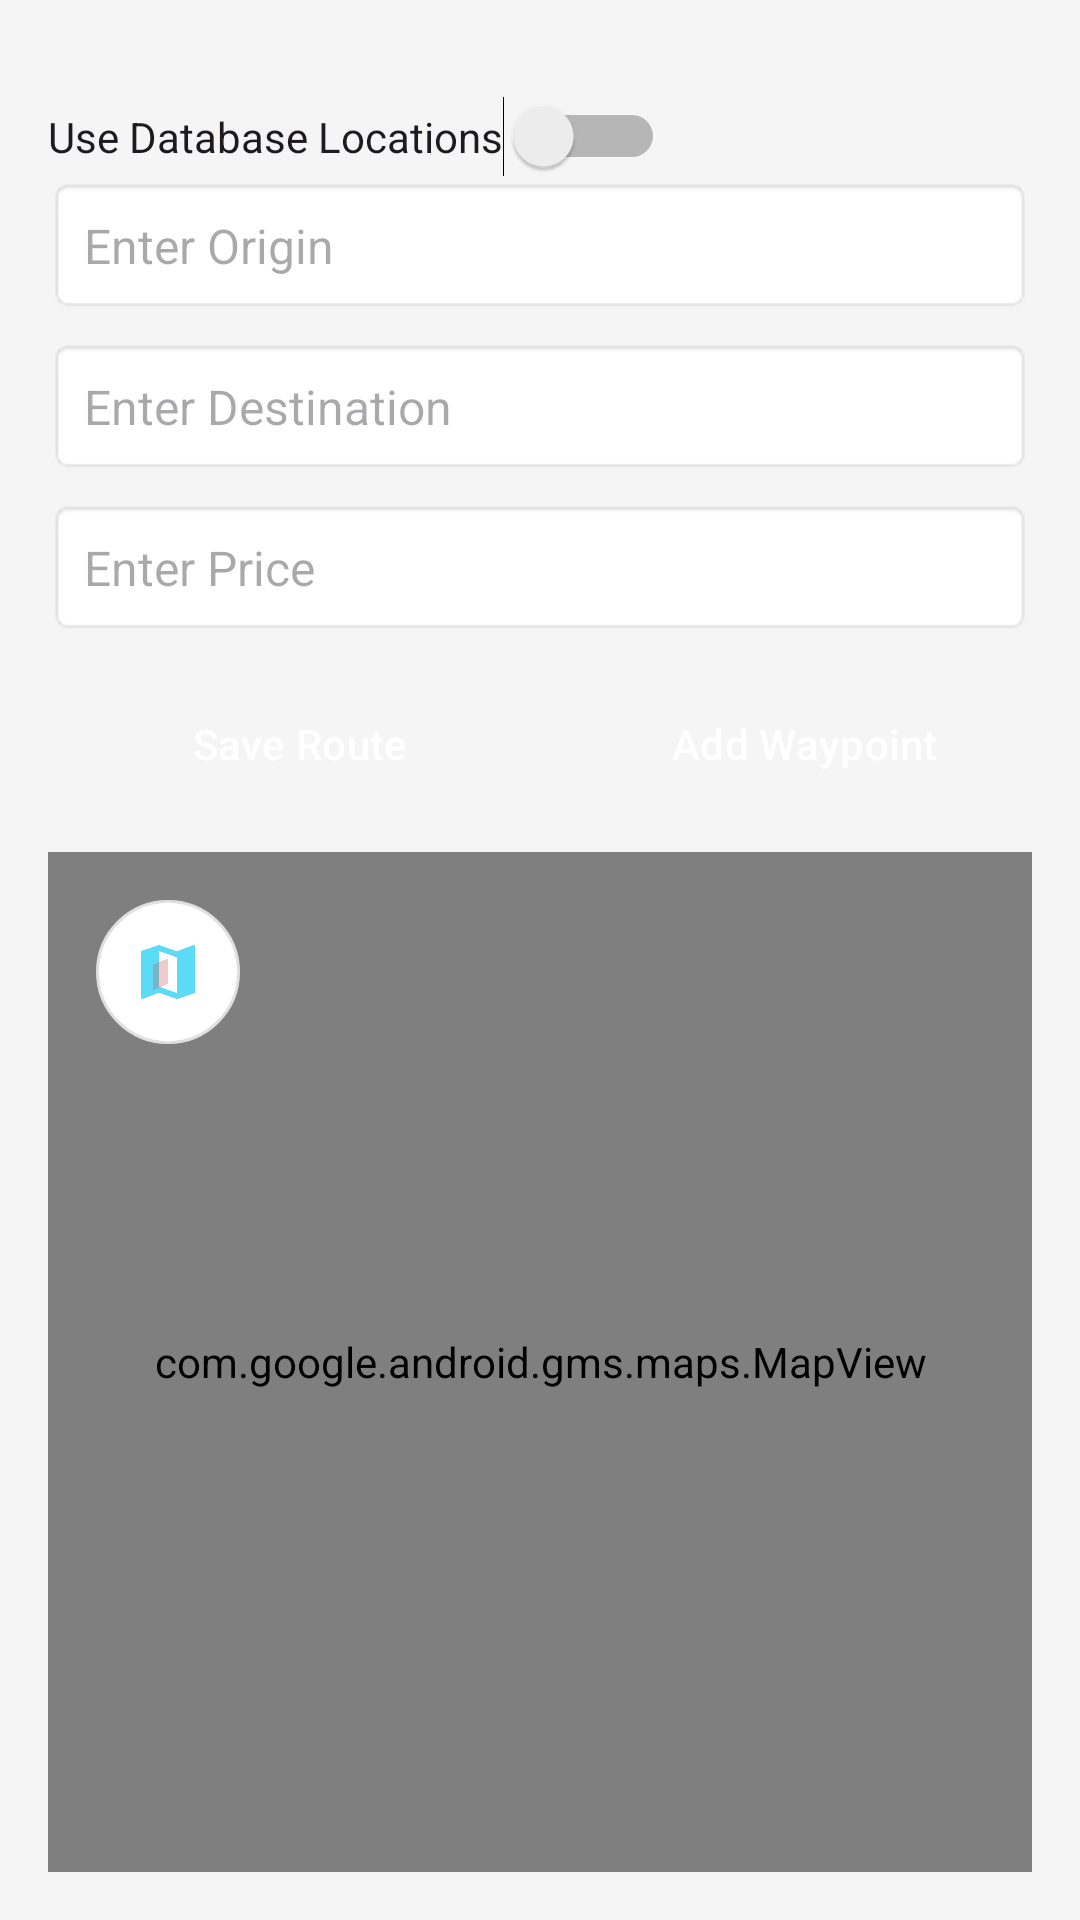

Screen size 1080x1920. Icon name, then its center in pixels as (x=x, y=y):
Toggle Mapview: (x=168, y=972)
